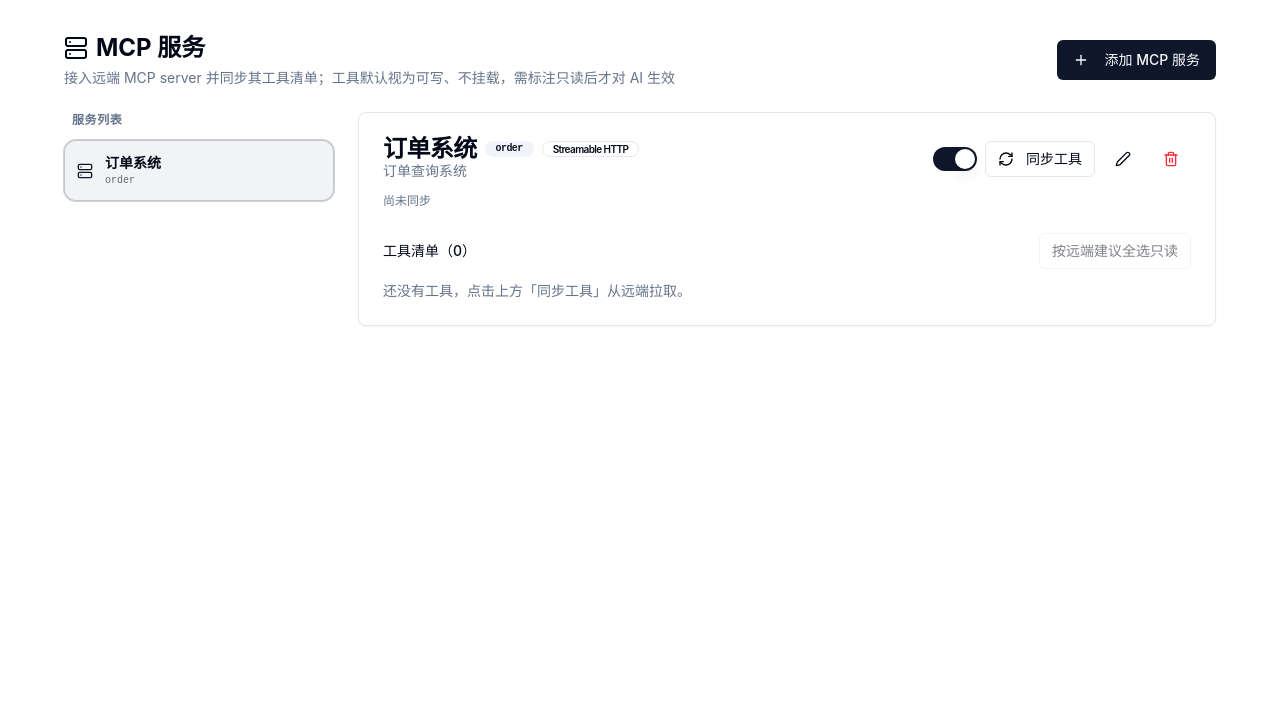
McpServerPage 删除 › 点击删除先查使用情况，弹窗里显示技能使用数
Expected: the text "订单系统" is shown, [105, 154, 161, 171]
Click the button named "删除". click: point(1171, 159)
box: [1151, 141, 1191, 177]
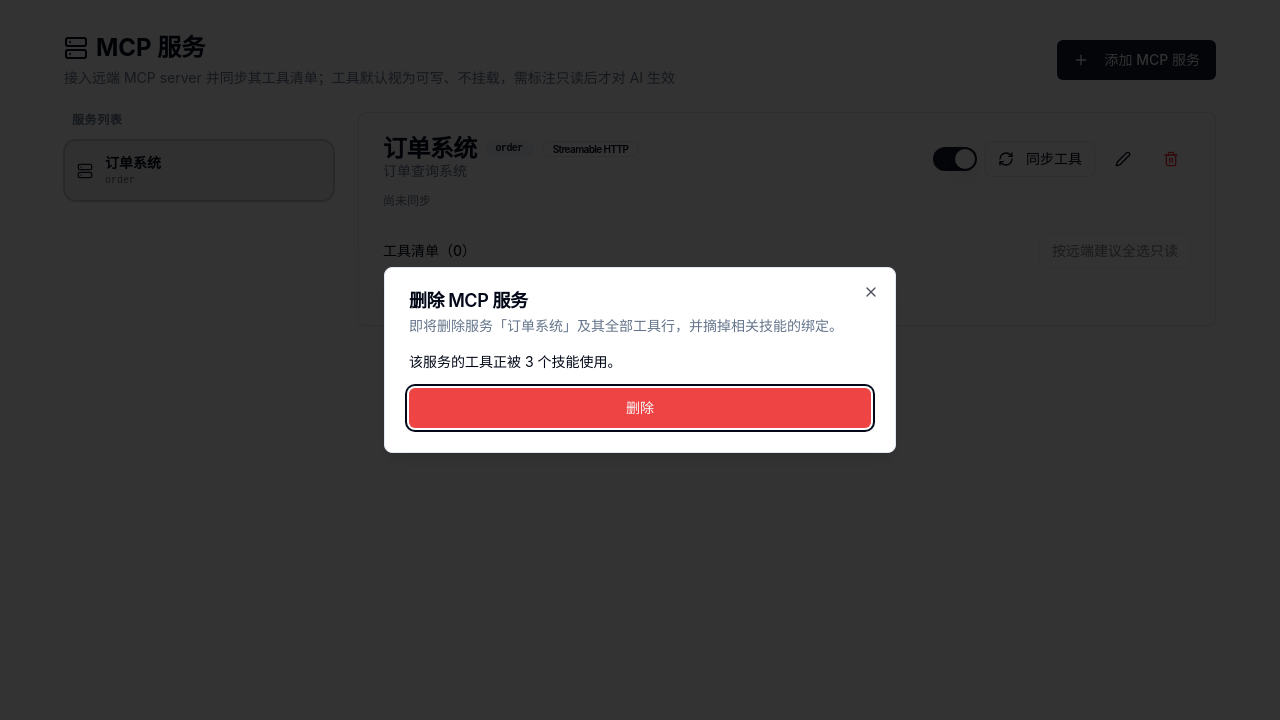
Now the text "该服务的工具正被 3 个技能使用。" is shown, box [409, 353, 622, 370]
